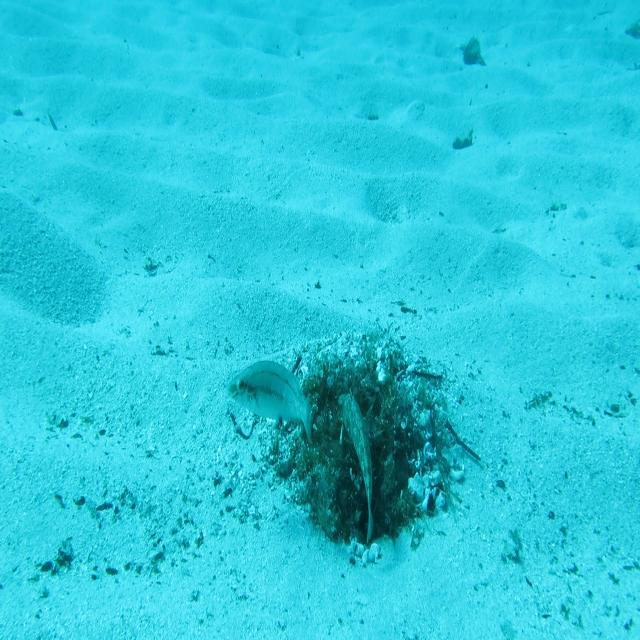ROLL: (338, 383, 377, 544)
core_nest: (330, 380, 378, 423)
female: (225, 356, 314, 447)
nest: (252, 316, 474, 572)
vegetation: (458, 36, 489, 71), (451, 128, 476, 153), (624, 11, 640, 44)
